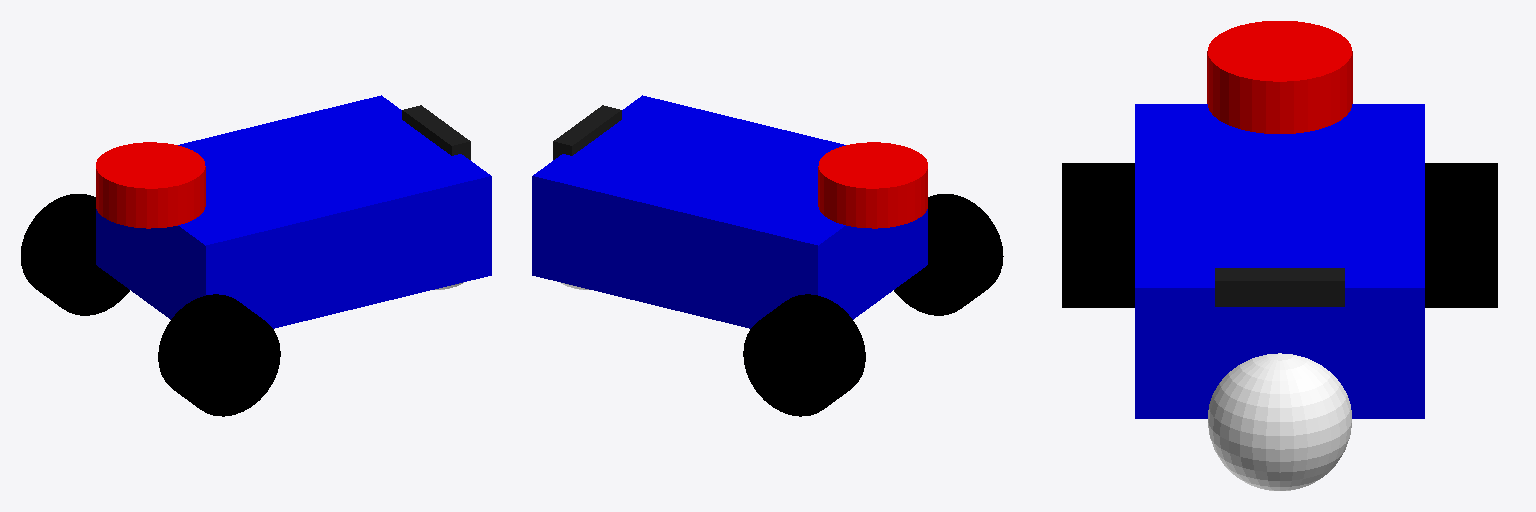
robot.urdf — my_robot:
<?xml version="1.0"?>
<robot name="my_robot">

    <link name="base_link">

        <visual>
            <origin xyz="0.15 0 0" rpy="0 0 0"/>
            <geometry>
            <!-- Asymmetric box: length 0.3, width 0.2, height 0.1, shifted 0.15m in +x -->
            <box size="0.3 0.2 0.1"/> 
            </geometry>
            <material name="blue">
            <color rgba="0 0 1 1"/> </material>
        </visual>

        <collision>
            <origin xyz="0.15 0 0" rpy="0 0 0"/>
            <geometry>
            <box size="0.3 0.2 0.1"/>
            </geometry>
        </collision>

        <inertial>
            <mass value="1.0"/> <inertia ixx="0.1" ixy="0.0" ixz="0.0" iyy="0.1" iyz="0.0" izz="0.1"/>
        </inertial>

    </link>

  <!-- Left wheel -->

    <link name="left_wheel">
        <visual>
            <geometry>
            <cylinder radius="0.05" length="0.05"/>
            </geometry>
            <material name="black">
            <color rgba="0 0 0 1"/>
            </material>
        </visual>
        <collision>
            <geometry>
            <cylinder radius="0.05" length="0.05"/>
            </geometry>
        </collision>
        <inertial>
            <mass value="1.0"/>
            <inertia ixx="0.1" ixy="0" ixz="0" iyy="0.1" iyz="0" izz="0.1"/>
        </inertial>
    </link>

    <joint name="left_wheel_joint" type="continuous">
        <parent link="base_link"/>  
        <child link="left_wheel"/>  
        <origin xyz="0 0.125 -0.05" rpy="-1.57 0 0"/>  <!-- x=0, y at left edge -->
        <axis xyz="0 0 1"/>
    </joint>

  <!-- Right wheel -->
    <link name="right_wheel">
        <visual>
            <geometry>
            <cylinder radius="0.05" length="0.05"/>
            </geometry>
            <material name="black">
            <color rgba="0 0 0 1"/>
            </material>
        </visual>
        <collision>
            <geometry>
            <cylinder radius="0.05" length="0.05"/>
            </geometry>
        </collision>
        <inertial>
            <mass value="1.0"/>
            <inertia ixx="0.1" ixy="0" ixz="0" iyy="0.1" iyz="0" izz="0.1"/>
        </inertial>
    </link>

    <joint name="right_wheel_joint" type="continuous">
        <parent link="base_link"/>
        <child link="right_wheel"/>
        <origin xyz="0 -0.125 -0.05" rpy="-1.57 0 0"/>  <!-- x=0, y at right edge -->
        <axis xyz="0 0 1"/>
    </joint>

  <!-- Caster wheel -->
    <link name="caster_wheel">
        <visual>
            <geometry>
            <sphere radius="0.05"/>
            </geometry>
            <material name="white">
            <color rgba="1 1 1 1"/>
            </material>
        </visual>
        <collision>
            <geometry>
            <sphere radius="0.05"/>
            </geometry>
        </collision>
        <inertial>
            <mass value="2.0"/>
            <inertia ixx="0.1" ixy="0" ixz="0" iyy="0.1" iyz="0" izz="0.1"/>
        </inertial>
    </link>

    <joint name="caster_joint" type="fixed">
        <parent link="base_link"/>
        <child link="caster_wheel"/>
        <origin xyz="0.3 0 -0.05"/>  <!-- At front, half-embedded in baselink -->
    </joint>

    <!-- Make caster wheel frictionless for smooth spinning: no more drift to sideways -->
    <gazebo reference="caster_wheel">
        <mu1>0.0</mu1>
        <mu2>0.0</mu2>
        <kp>1000000.0</kp>
        <kd>100.0</kd>
        <material>Gazebo/White</material>
    </gazebo>

    <!-- define lidar-->
    <link name="lidar_link">
        <visual>
            <geometry>
                <cylinder radius="0.05" length="0.04"/>
            </geometry>
            <material name="red">
                <color rgba="1 0 0 1"/>
            </material>
        </visual>
        <collision>
            <geometry>
                <cylinder radius="0.05" length="0.04"/>
            </geometry>
        </collision>
            <inertial>
            <mass value="0.1"/>
            <inertia ixx="0.0001" ixy="0" ixz="0" iyy="0.0001" iyz="0" izz="0.0001"/>
        </inertial>
    </link>

    <joint name="lidar_joint" type="fixed">
        <parent link="base_link"/>
        <child link="lidar_link"/>
        <origin xyz="0 0 0.07" rpy="0 0 0"/>  <!-- x=0, on top of baselink -->
    </joint>

    <gazebo reference="lidar_link">
        <sensor name="lidar" type="gpu_lidar">
            <always_on>true</always_on>
            <visualize>true</visualize>
            <update_rate>10</update_rate>
            <topic>scan</topic>
            <ray>
            <scan>
                <horizontal>
                <samples>360</samples>
                <resolution>1</resolution>
                <min_angle>-3.14</min_angle>
                <max_angle>3.14</max_angle>
                </horizontal>
                <vertical>
                <samples>1</samples>
                <!-- the error if lidar is 0.01 m-->
                <resolution>0.01</resolution>
                <min_angle>0</min_angle>
                <max_angle>0</max_angle>
                </vertical>
            </scan>
            <range>
                <min>0.08</min>
                <max>10.0</max>
                <resolution>0.01</resolution>
            </range>
            <noise>
                <type>gaussian</type>
                <mean>0.0</mean>
                <stddev>0.01</stddev>
            </noise>
            </ray>
            <gz_frame_id>lidar_link</gz_frame_id>
        </sensor>
    </gazebo>

    <!-- ================= OAK-D camera (mirrors TurtleBot 4) ================= -->
    <!-- Frame tree matches the real robot so topics/TF are drop-in:            -->
    <!--   base_link -> oakd_link -> oakd_rgb_camera_frame                       -->
    <!--                          -> oakd_rgb_camera_optical_frame (REP-145)     -->
    <link name="oakd_link">
        <visual>
            <geometry>
                <box size="0.02 0.09 0.02"/>
            </geometry>
            <material name="dark_grey">
                <color rgba="0.15 0.15 0.15 1"/>
            </material>
        </visual>
        <collision>
            <geometry>
                <box size="0.02 0.09 0.02"/>
            </geometry>
        </collision>
        <inertial>
            <mass value="0.05"/>
            <inertia ixx="1e-5" ixy="0" ixz="0" iyy="1e-5" iyz="0" izz="1e-5"/>
        </inertial>
    </link>

    <!-- Mount at the front face of base_link (x=0.3), near the top (z=0.05), looking +x -->
    <joint name="oakd_joint" type="fixed">
        <parent link="base_link"/>
        <child link="oakd_link"/>
        <origin xyz="0.30 0 0.05" rpy="0 0 0"/>
    </joint>

    <!-- Body camera frame: +x forward, aligned with oakd_link -->
    <link name="oakd_rgb_camera_frame"/>
    <joint name="oakd_rgb_camera_joint" type="fixed">
        <parent link="oakd_link"/>
        <child link="oakd_rgb_camera_frame"/>
        <origin xyz="0.01 0 0" rpy="0 0 0"/>
    </joint>

    <!-- Optical frame: REP-145 (z forward, x right, y down). This is the frame -->
    <!-- stamped on Image/CameraInfo and used for pinhole deprojection.          -->
    <link name="oakd_rgb_camera_optical_frame"/>
    <joint name="oakd_rgb_camera_optical_joint" type="fixed">
        <parent link="oakd_rgb_camera_frame"/>
        <child link="oakd_rgb_camera_optical_frame"/>
        <origin xyz="0 0 0" rpy="-1.5707963 0 -1.5707963"/>
    </joint>

    <!-- RGB + depth sensors. Both 640x480 @ ~69deg HFOV so depth pixels align   -->
    <!-- 1:1 with RGB. Headers stamped with the optical frame via gz_frame_id.    -->
    <gazebo reference="oakd_rgb_camera_frame">
        <sensor name="oakd_rgb" type="camera">
            <always_on>true</always_on>
            <visualize>true</visualize>
            <update_rate>15</update_rate>
            <topic>oakd/rgb/image_raw</topic>
            <camera_info_topic>oakd/rgb/camera_info</camera_info_topic>
            <gz_frame_id>oakd_rgb_camera_optical_frame</gz_frame_id>
            <camera>
                <horizontal_fov>1.2043</horizontal_fov>  <!-- 69 deg, OAK-D-Pro RGB nominal -->
                <image>
                    <width>640</width>
                    <height>480</height>
                    <format>R8G8B8</format>
                </image>
                <clip>
                    <near>0.1</near>
                    <far>15.0</far>
                </clip>
            </camera>
        </sensor>

        <sensor name="oakd_depth" type="depth_camera">
            <always_on>true</always_on>
            <update_rate>15</update_rate>
            <!-- gz publishes 32FC1 metres here; depth_to_mm republishes 16UC1 mm -->
            <!-- as /oakd/stereo/image_raw to match the real depthai driver.       -->
            <topic>oakd/stereo/image_float</topic>
            <camera_info_topic>oakd/stereo/camera_info</camera_info_topic>
            <gz_frame_id>oakd_rgb_camera_optical_frame</gz_frame_id>
            <camera>
                <horizontal_fov>1.2043</horizontal_fov>
                <image>
                    <width>640</width>
                    <height>480</height>
                    <format>R_FLOAT32</format>
                </image>
                <clip>
                    <near>0.1</near>
                    <far>15.0</far>
                </clip>
            </camera>
        </sensor>
    </gazebo>


    <!-- Diff Drive Plugin to move robot-->
    <gazebo>
        <plugin filename="libignition-gazebo-diff-drive-system.so" name="ignition::gazebo::systems::DiffDrive">
            
            <left_joint>left_wheel_joint</left_joint>
            <right_joint>right_wheel_joint</right_joint>
            
            <wheel_separation>0.25</wheel_separation>
            <wheel_radius>0.05</wheel_radius>
            
            <max_linear_acceleration>1</max_linear_acceleration>
            <min_linear_acceleration>-1</min_linear_acceleration>
            <max_angular_acceleration>2</max_angular_acceleration>
            <min_angular_acceleration>-2</min_angular_acceleration>
            <max_linear_velocity>0.5</max_linear_velocity>
            <min_linear_velocity>-0.5</min_linear_velocity>
            <max_angular_velocity>1</max_angular_velocity>
            <min_angular_velocity>-1</min_angular_velocity>

            <topic>/cmd_vel</topic>
            
            <odom_topic>odom_raw</odom_topic>
            <tf_topic>tf_gazebo_exact</tf_topic>
            <frame_id>odom</frame_id>
            <child_frame_id>base_link</child_frame_id>
            <odom_publisher_frequency>30</odom_publisher_frequency>
            
        </plugin>
    </gazebo>

</robot>

--- What the picture shows (computed from the rendered views, not written in the file) ---
3 views of the same robot in one strip: view 1: azimuth 30°, elevation 25°; view 2: azimuth 150°, elevation 25°; view 3: azimuth 270°, elevation 25° (orthographic).
Model my_robot with 8 links and 7 joints (2 continuous, 5 fixed), rooted at base_link, posed all joints at 0.
Links seen in each view (by area): view 1: base_link, right_wheel, lidar_link, left_wheel, oakd_link; view 2: base_link, left_wheel, lidar_link, right_wheel, oakd_link; view 3: base_link, caster_wheel, lidar_link, left_wheel, right_wheel, oakd_link.
Link boxes in pixels (box(x1,y1,x2,y2)): base_link: box(96, 95, 491, 328); right_wheel: box(158, 294, 280, 416); lidar_link: box(96, 142, 205, 228); left_wheel: box(21, 194, 129, 315); oakd_link: box(402, 105, 470, 159); base_link: box(532, 95, 927, 328); left_wheel: box(743, 294, 865, 416); lidar_link: box(818, 142, 927, 228); right_wheel: box(894, 194, 1003, 315); oakd_link: box(553, 105, 621, 159); base_link: box(1135, 104, 1424, 418); caster_wheel: box(1208, 353, 1351, 490); lidar_link: box(1207, 21, 1352, 133); left_wheel: box(1425, 163, 1497, 307); right_wheel: box(1062, 163, 1134, 307); oakd_link: box(1215, 268, 1344, 306).
Bounding box of the posed robot: 0.4 × 0.3001 × 0.19 m (x, y, z).
Geometry: primitives only (box / cylinder / sphere), no mesh files.
